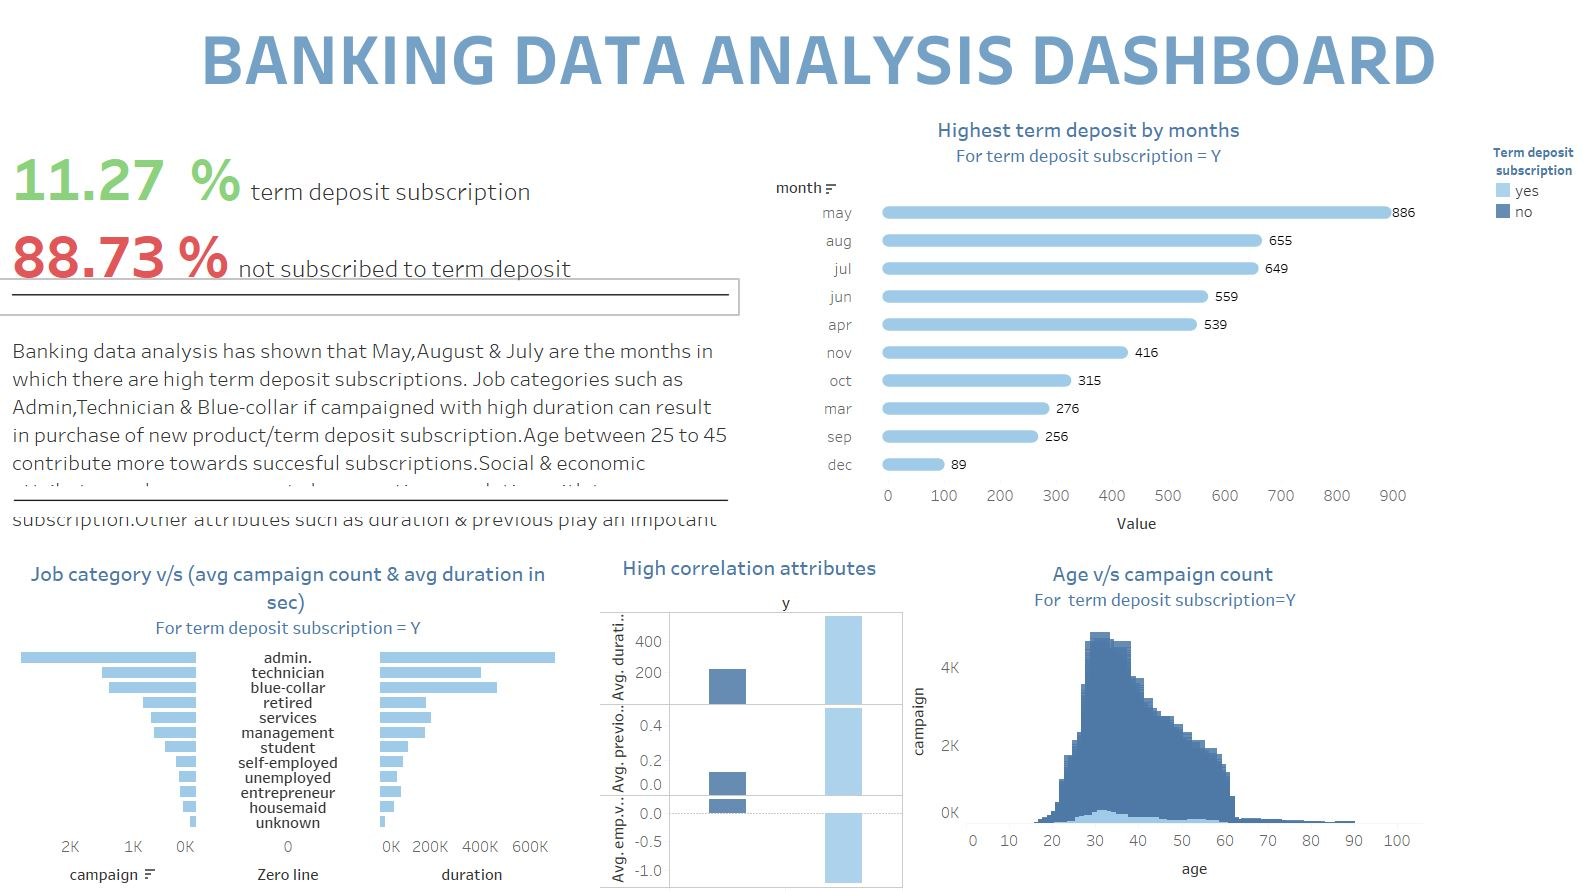

The dashboard page shown, as its layout file describes it:
{"tool":"tableau","page":{"name":"Dashboard 1","canvas":[1000,1000],"units":"permille","ordinal":0},"visuals":[{"type":"title","box":[4.8,8.8,990.3,108.7]},{"type":"worksheet","title":"Top months for subscriptions","mark":"Line","rows":["month"],"cols":["y"],"box":[465.4,122.9,421.1,489.6]},{"type":"worksheet","title":"Client Subscription Rate","mark":"Text","box":[10.9,124,439.9,466.5]},{"type":"legend","title":"Focus on age for increased subscriptions","param":"[federated.062rl211mcq37n195s7vw0e90xq7].[none:y:nk]","box":[907.1,158.1,84.5,102.1]},{"type":"legend","title":"Client Subscription Rate","param":"[federated.062rl211mcq37n195s7vw0e90xq7].[none:y:nk]","box":[312.6,226.1,333.1,321.6]},{"type":"image","param":"C:/Users/Lohith/Desktop/Capture.JPG","box":[3.6,308.4,447.8,37.3]},{"type":"image","param":"C:/Users/Lohith/Desktop/Capture.JPG","box":[4.8,534.6,446,45]},{"type":"worksheet","title":"High correlation attributes","mark":"Automatic","rows":["duration","previous","emp.var.rate"],"cols":["y"],"box":[368.1,603.7,182.9,385.3]},{"type":"worksheet","title":"Job category v/s (campaign & duration)","mark":"Automatic","rows":["job"],"cols":["campaign","Calculation_343118060978110466","duration"],"box":[13.3,610.3,333.1,369.9]},{"type":"worksheet","title":"Focus on age for increased subscriptions","mark":"Bar","rows":["campaign"],"cols":["age"],"box":[553.4,610.3,311.4,363.3]}]}

Visuals, with their boxes on the dashboard's canvas, which has no fixed pixel size, in thousandths of its width and height (x1, y1, x2, y2). These are canvas units, not pixel positions in the 1586x891 screenshot, which may show the page scaled, cropped or inside an application window:
title: crop(5, 9, 995, 118)
"Top months for subscriptions" worksheet (Line marks): crop(465, 123, 886, 612)
"Client Subscription Rate" worksheet (Text marks): crop(11, 124, 451, 590)
"Focus on age for increased subscriptions" legend: crop(907, 158, 992, 260)
"Client Subscription Rate" legend: crop(313, 226, 646, 548)
image: crop(4, 308, 451, 346)
image: crop(5, 535, 451, 580)
"High correlation attributes" worksheet: crop(368, 604, 551, 989)
"Job category v/s (campaign & duration)" worksheet: crop(13, 610, 346, 980)
"Focus on age for increased subscriptions" worksheet (Bar marks): crop(553, 610, 865, 974)
